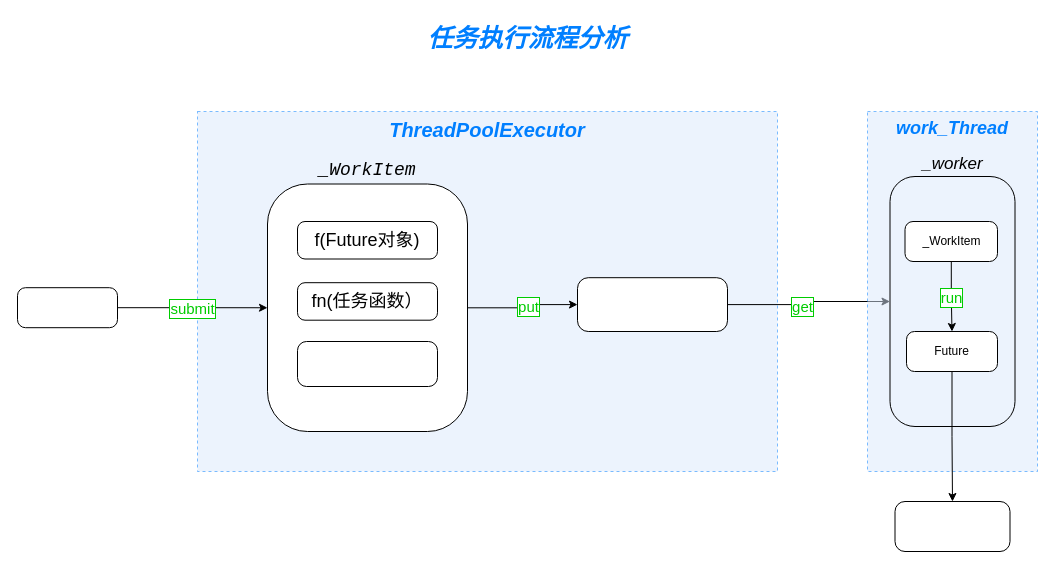
Image size: 1055x569. Some labels were removed from this diagram. The centre of each missing label's shape, as x and y in pixels:
"_work_queue (工作队列）" goes at point 652,304.
"args, kwargs (运行参数)" goes at point 367,363.
"result" goes at point 952,526.
"task" goes at point 67,307.
